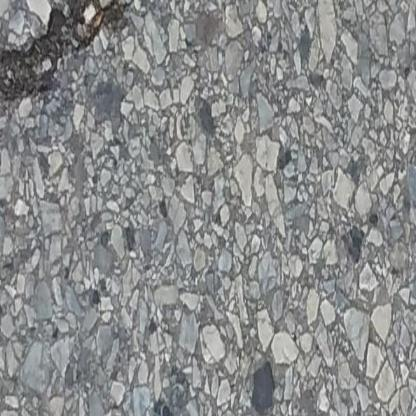Cracks: (0, 0, 148, 115)
